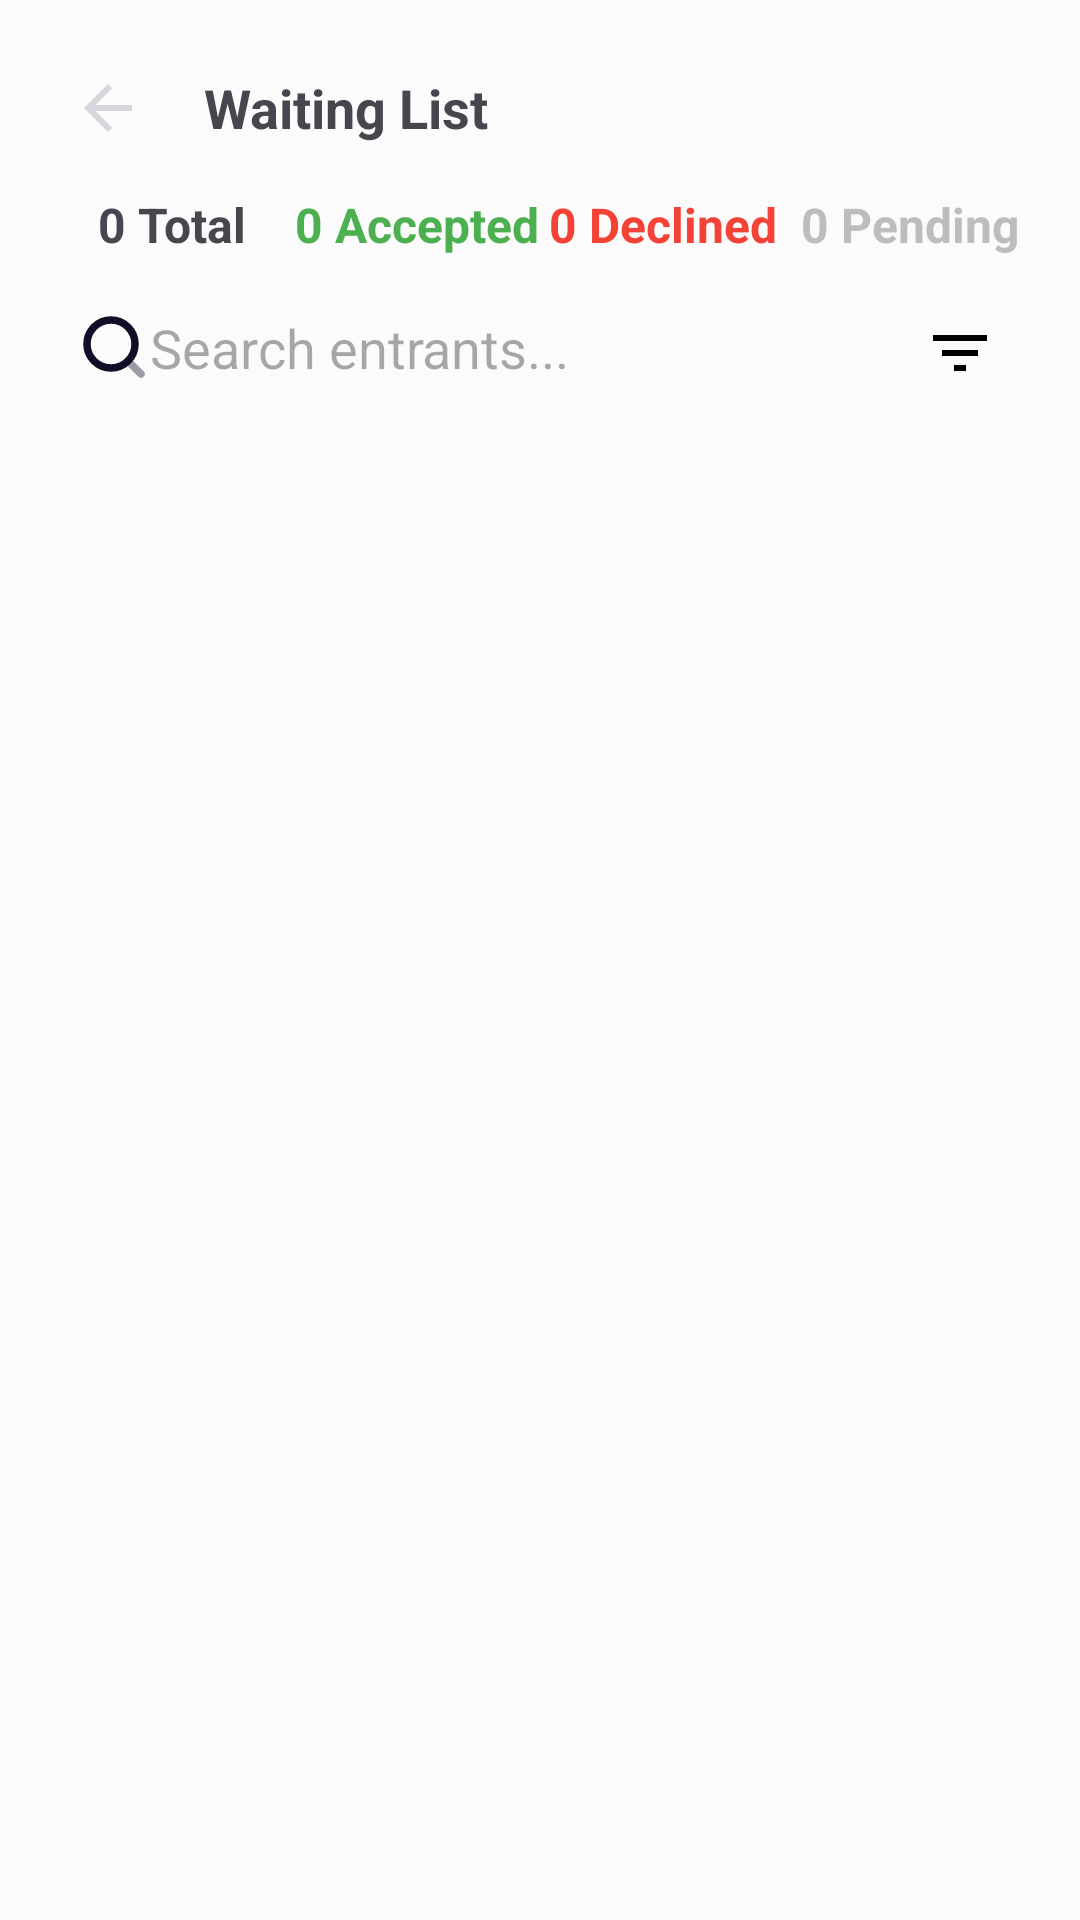

Where icons sit on this 1080 × 1920 app screen, as (x1=x1, y1=y1, x2=x2, y2=y2):
Back: (x1=85, y1=85, x2=132, y2=131)
Filter: (x1=933, y1=335, x2=987, y2=371)
